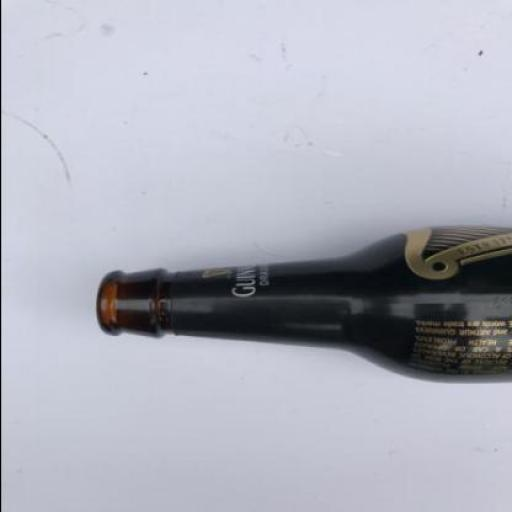glass: (96, 225, 511, 384)
